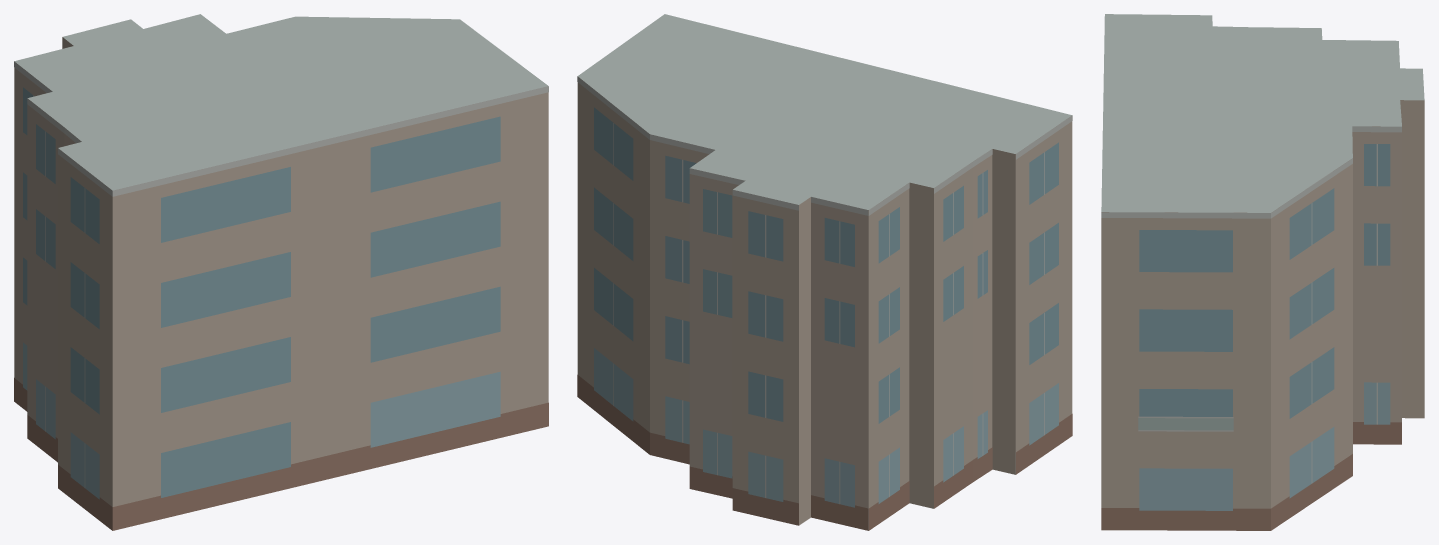
The model's file is survey-upis-32654757.glb.
3 views of the same model, side by side, from view 1: azimuth 30°, elevation 25°; view 2: azimuth 150°, elevation 25°; view 3: azimuth 270°, elevation 25° (orthographic). The views are drawn at different scales.
Visible parts, largest first — view 1: survey-upis-32654757.tmp; view 2: survey-upis-32654757.tmp; view 3: survey-upis-32654757.tmp.
Boxes of the visible parts, left/top/right/bottom form: survey-upis-32654757.tmp: left=14, top=14, right=548, bottom=530; survey-upis-32654757.tmp: left=577, top=14, right=1072, bottom=530; survey-upis-32654757.tmp: left=1101, top=14, right=1424, bottom=530.
Bounding box in the file's own units: 18.07 × 13.45 × 12.4.
